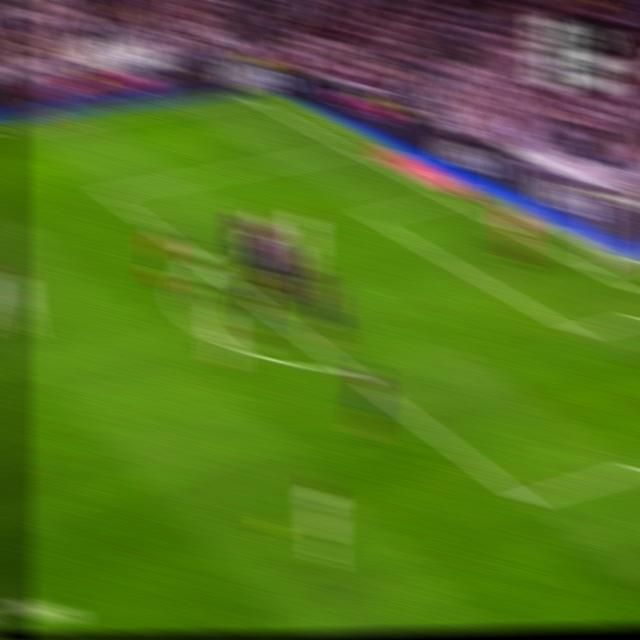bigarea_bottom_inner: (510, 483, 539, 517)
bigarea_top_inner: (95, 180, 121, 205)
bottom_arc_area_intersection: (333, 354, 360, 382)
corner: (238, 89, 263, 105)
smallarea_bottom_inner: (564, 319, 590, 346)
smallarea_bottom_outter: (337, 138, 362, 158)
smallarea_top_inner: (359, 206, 382, 226)
top_arc_area_intersection: (192, 253, 218, 274)
